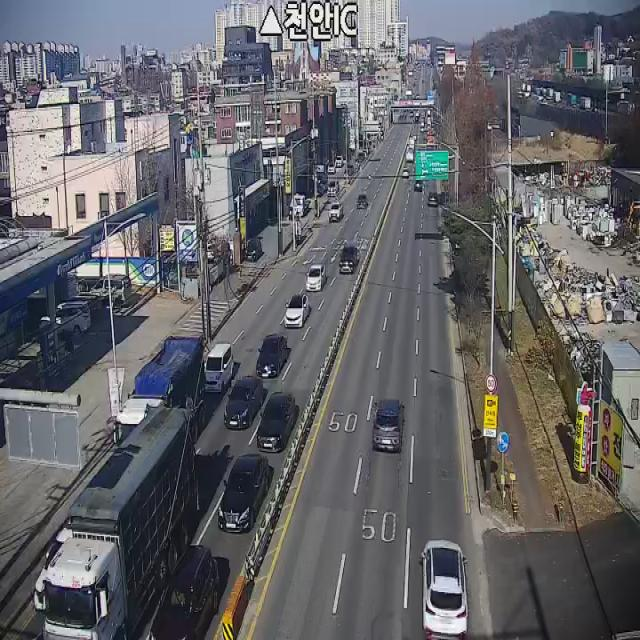Car: (149, 545, 219, 640), (420, 538, 467, 640), (218, 453, 269, 533), (256, 394, 296, 454), (224, 378, 262, 430), (372, 399, 405, 453), (40, 301, 92, 335), (256, 333, 288, 378), (205, 342, 233, 393), (96, 271, 133, 306), (284, 294, 310, 328), (340, 246, 359, 274), (306, 266, 326, 292), (245, 236, 263, 260), (329, 202, 343, 222), (328, 181, 339, 197), (357, 194, 368, 209), (428, 192, 438, 207)
Truck: (44, 399, 206, 640), (116, 334, 206, 451)
